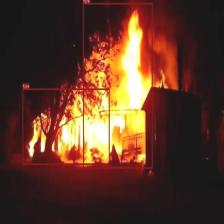fire: (83, 2, 153, 168), (22, 89, 110, 164)
